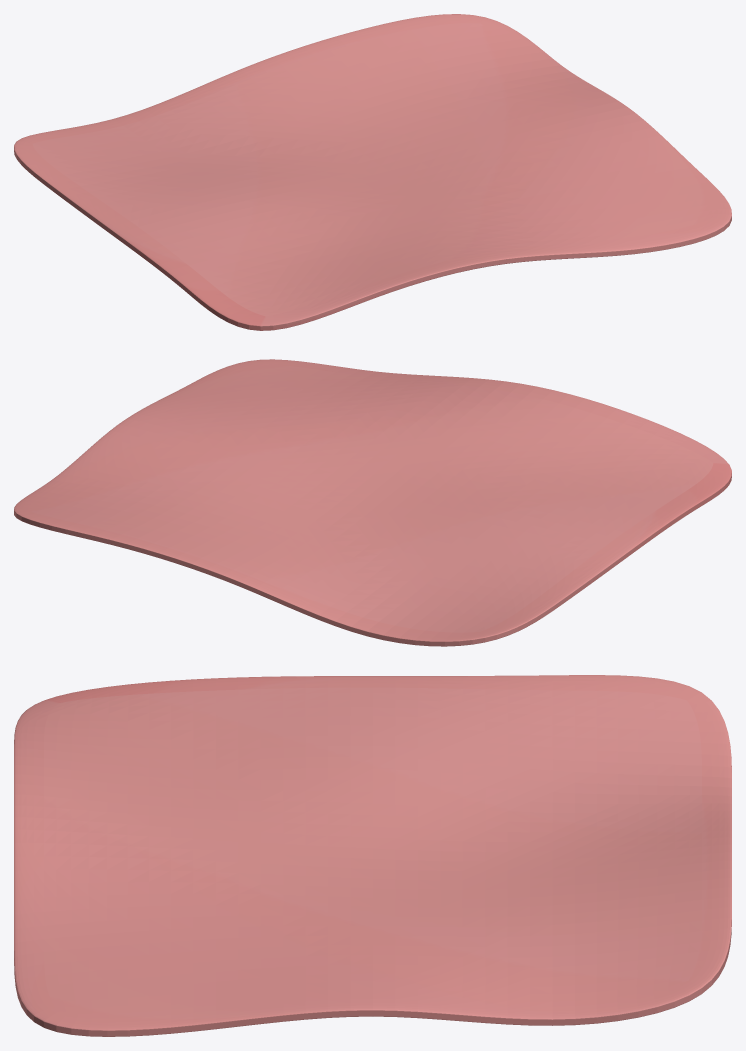
The model's file is ham.obj.
3 renders of one model, top to bottom at view 1: azimuth 30°, elevation 25°; view 2: azimuth 150°, elevation 25°; view 3: azimuth 270°, elevation 25°, orthographic. The views are drawn at different scales.
Parts seen in each view (by area): view 1: Cube.002; view 2: Cube.002; view 3: Cube.002.
Boxes of the visible parts, x1,y1,x2,y2 form: Cube.002: (14, 14, 731, 330); Cube.002: (14, 359, 731, 646); Cube.002: (14, 675, 731, 1036).
Size of the model in its own units: 2.18 by 0.1548 by 1.96.
